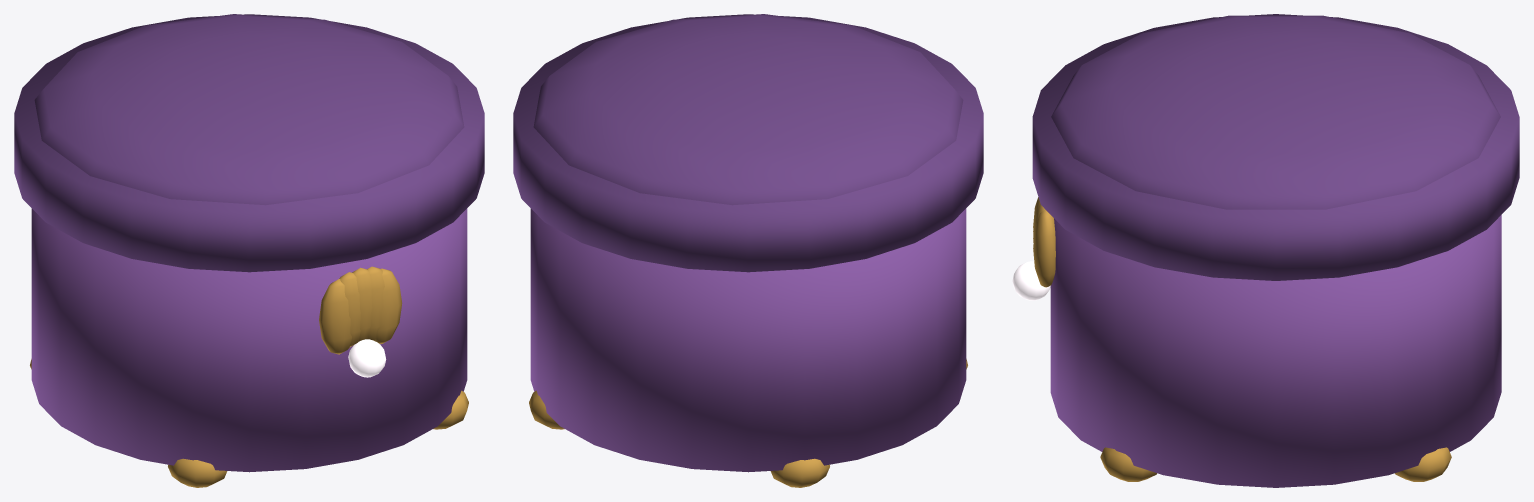
File: opera_detective_box_2.glb
3 views of the same model, side by side, from view 1: azimuth 30°, elevation 25°; view 2: azimuth 150°, elevation 25°; view 3: azimuth 270°, elevation 25° (orthographic). The views are drawn at different scales.
Visible parts, largest first — view 1: VisualMesh.002, LidDome, LidTop.002; view 2: VisualMesh.002, LidDome, LidTop.002; view 3: VisualMesh.002, LidDome, LidTop.002.
Part boxes in pixels (x1,y1,x2,y2): VisualMesh.002: (30, 208, 468, 487); LidDome: (34, 14, 464, 205); LidTop.002: (14, 14, 484, 272); VisualMesh.002: (529, 208, 967, 487); LidDome: (533, 14, 963, 205); LidTop.002: (513, 14, 983, 272); VisualMesh.002: (1012, 197, 1501, 487); LidDome: (1051, 15, 1500, 209); LidTop.002: (1032, 14, 1519, 280).
Bounding box in the file's own units: 3.24 × 2.57 × 3.37.
